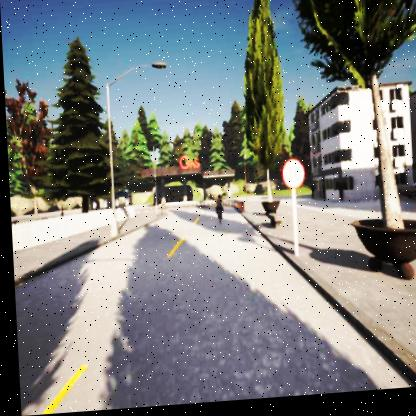motobike: (211, 198, 221, 225)
